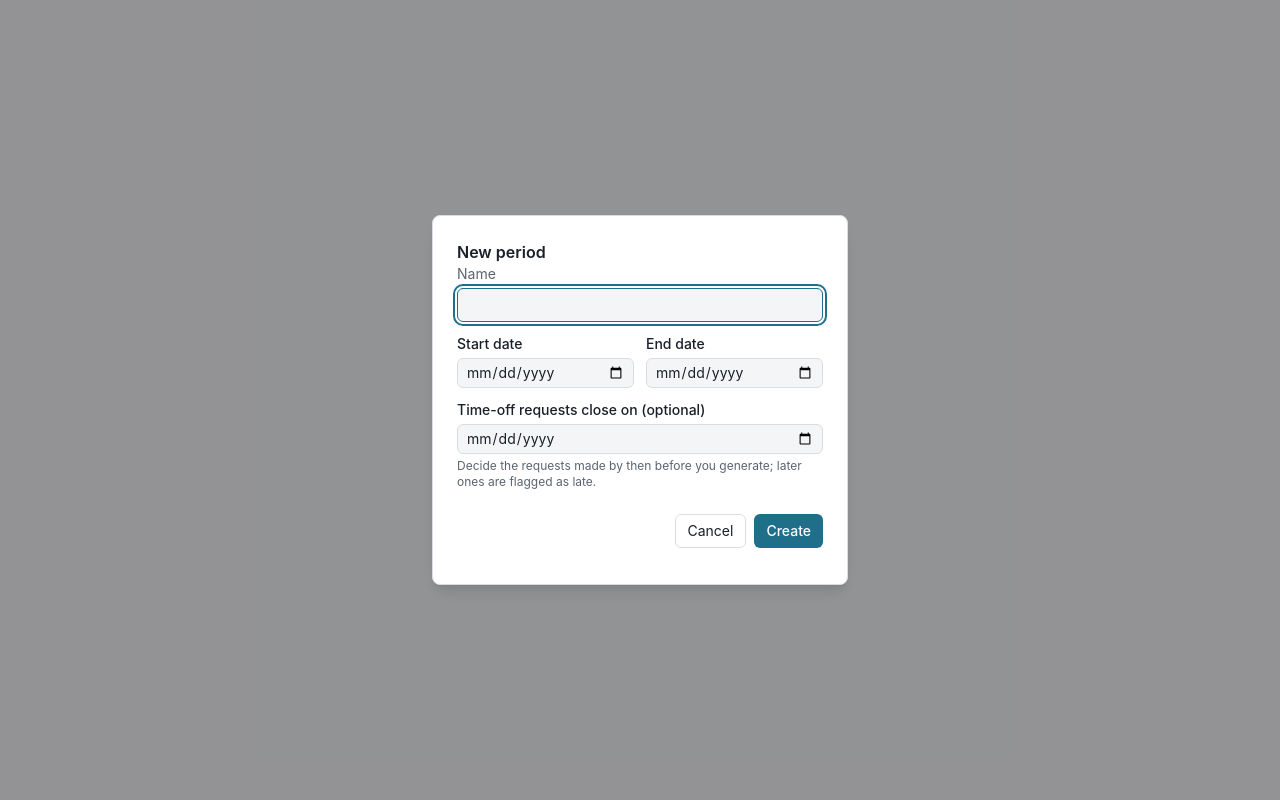
Test: creating a scheduling period › refuses a period with no name
Expected: the form with test id "new-period-form" is shown, [457, 264, 823, 548]
Type "2026-12-06" into the date field labelled "Start date" at x=546, y=373, box [457, 358, 634, 388]
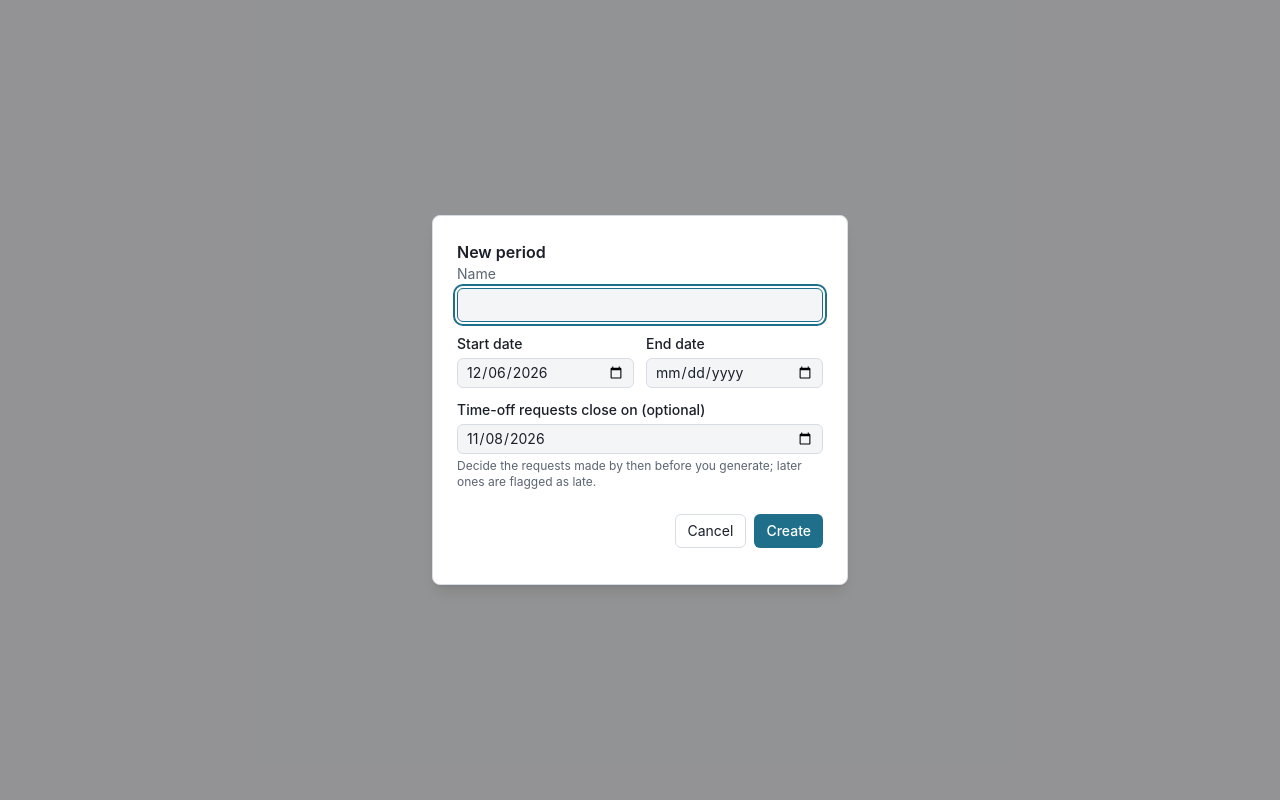
Type "2027-01-16" into the date field labelled "End date" at x=734, y=373, box [646, 358, 823, 388]
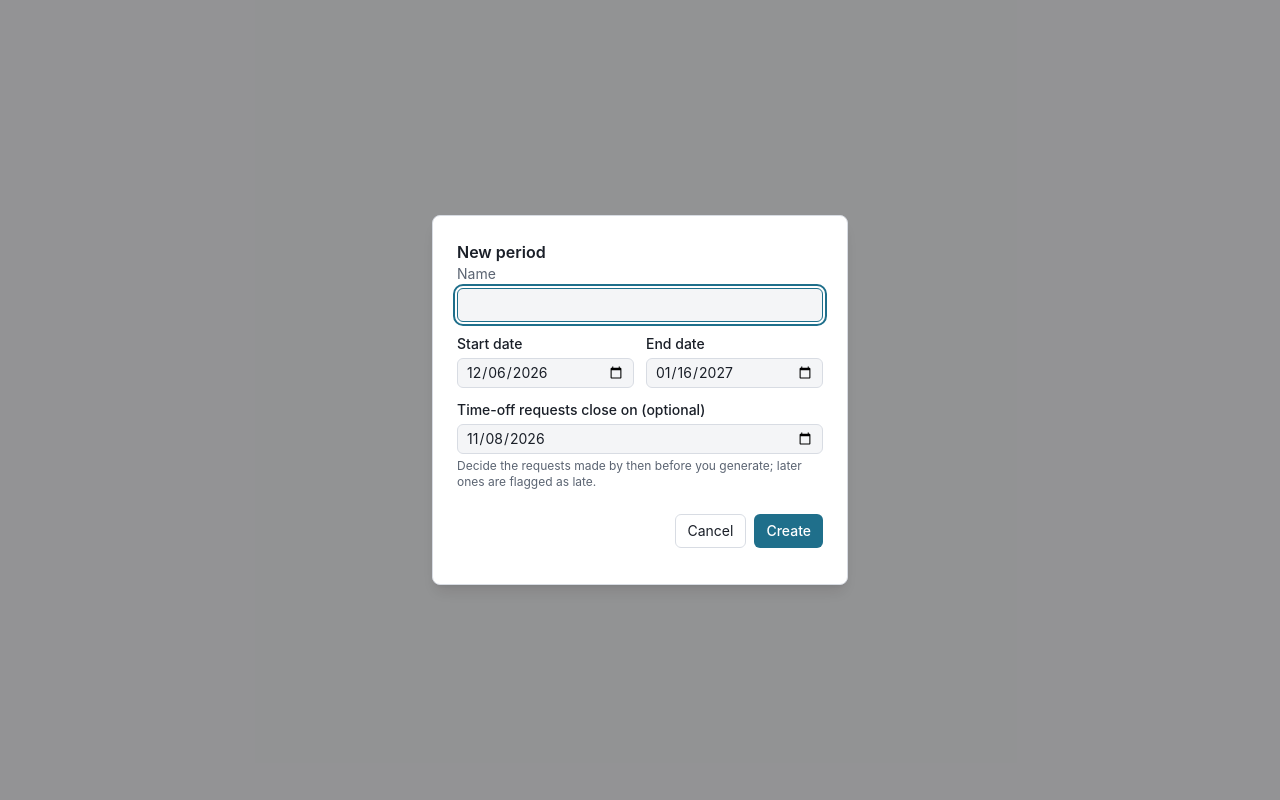
Click the button with test id "new-period-save" at x=789, y=531, box [754, 514, 823, 548]
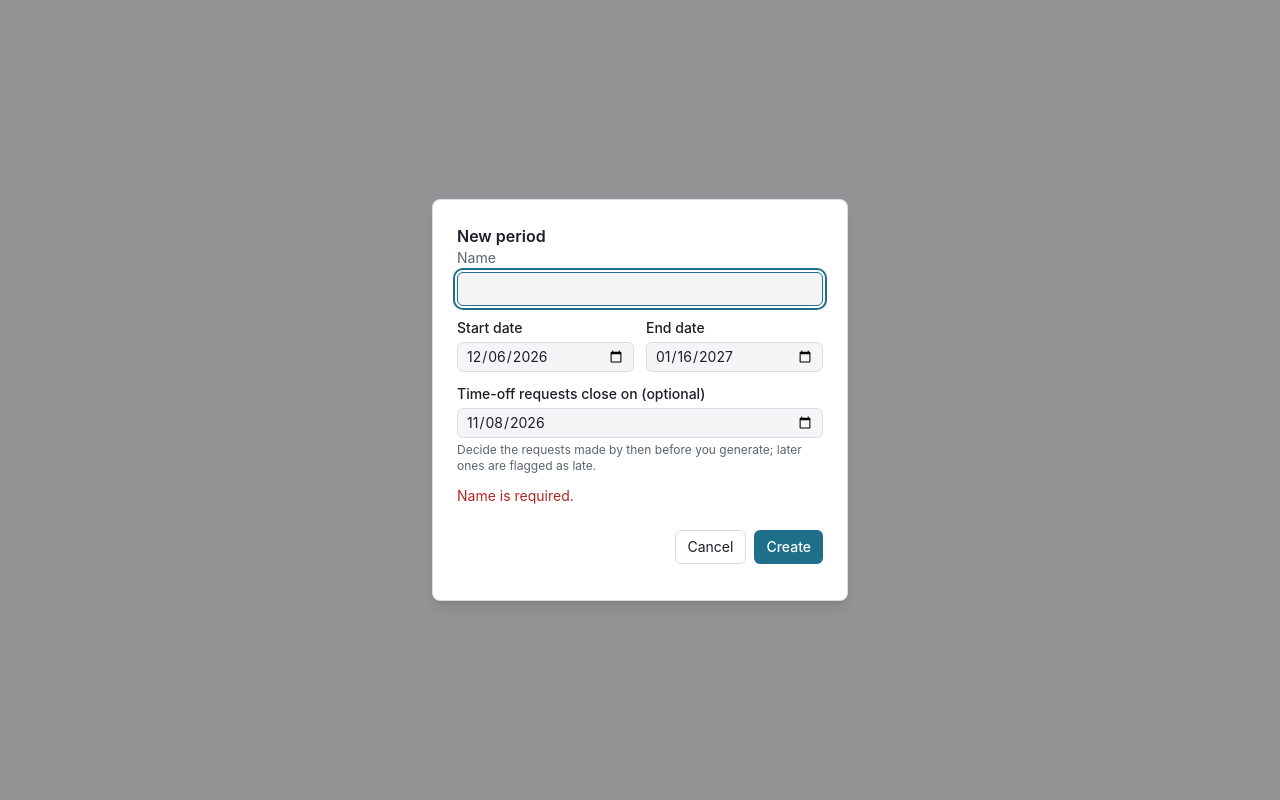
Result: the message reads "Name is required." at [457, 487, 574, 504]
